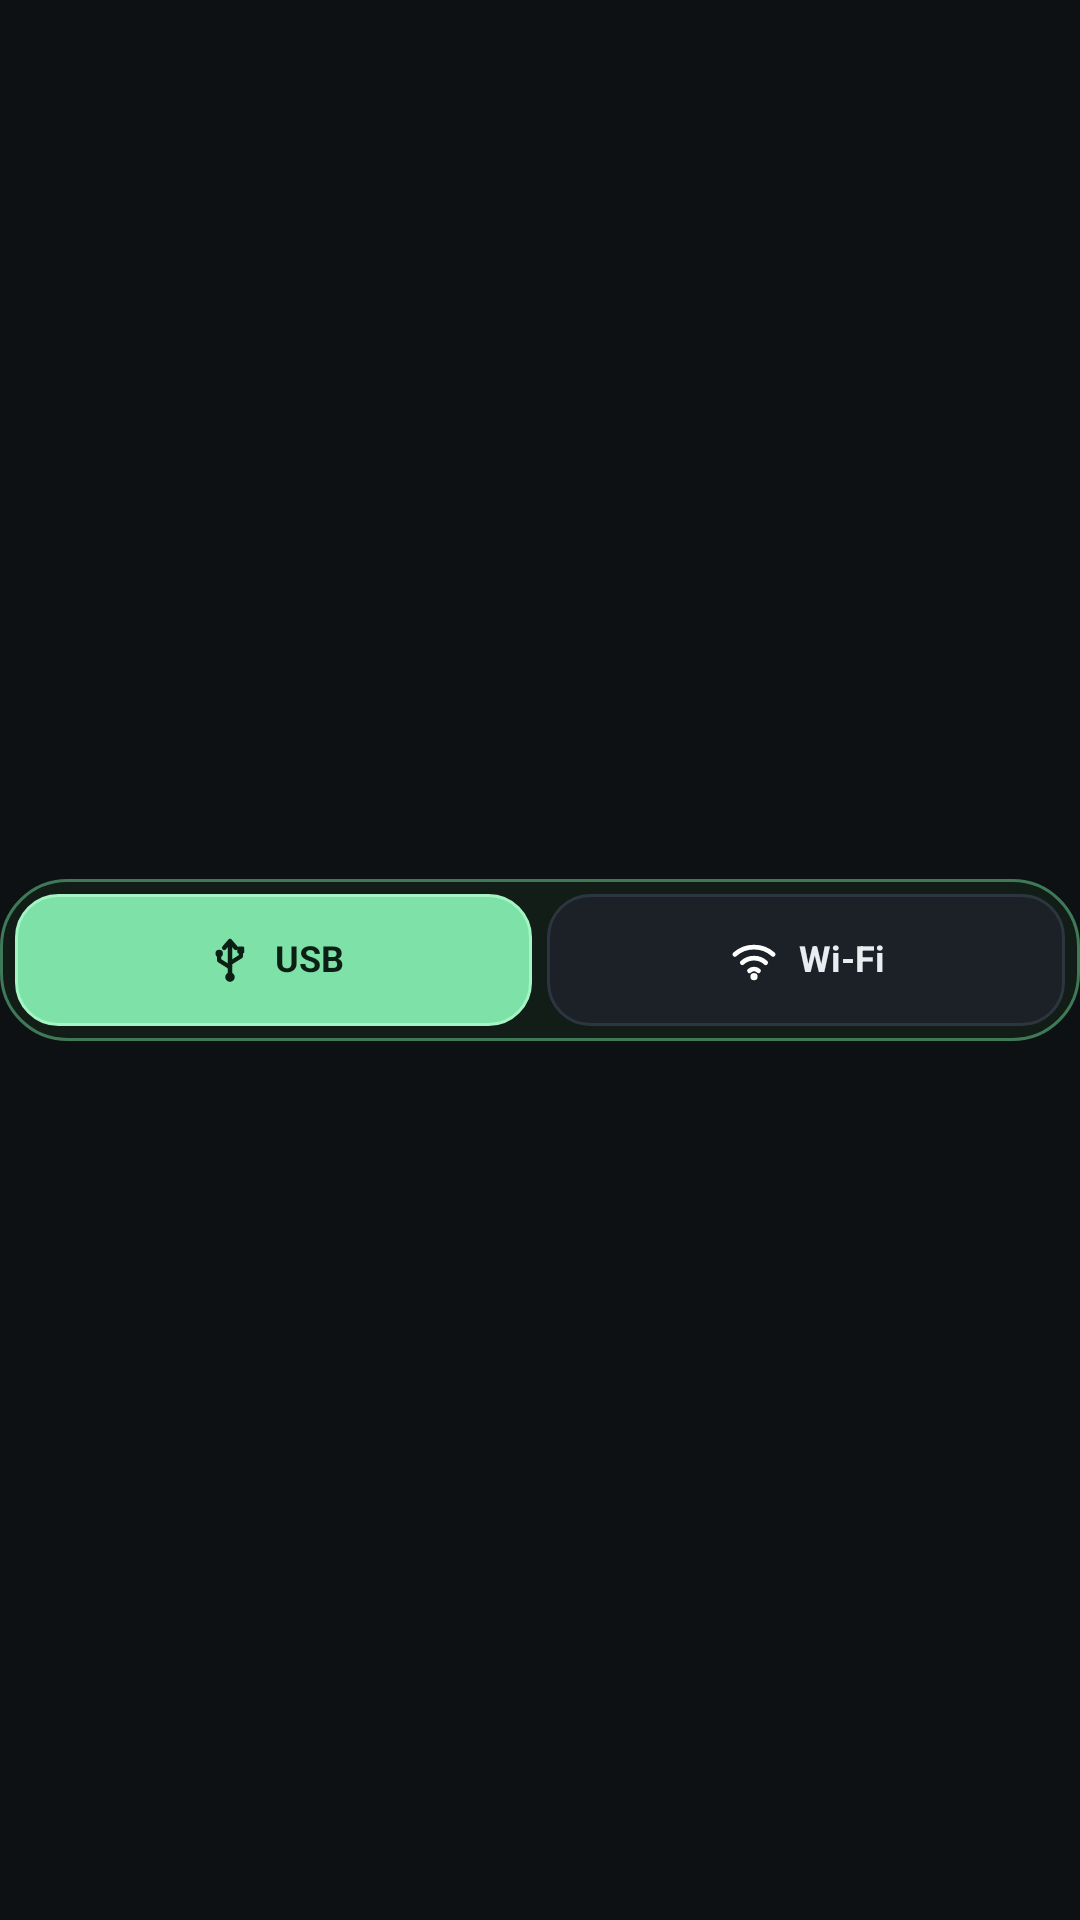

Screen size 1080x1920. Icon name, then its box in pixels as (x1, y1, x2, y2):
usb debug: (215, 938, 245, 982)
wireless debug: (732, 944, 776, 981)
